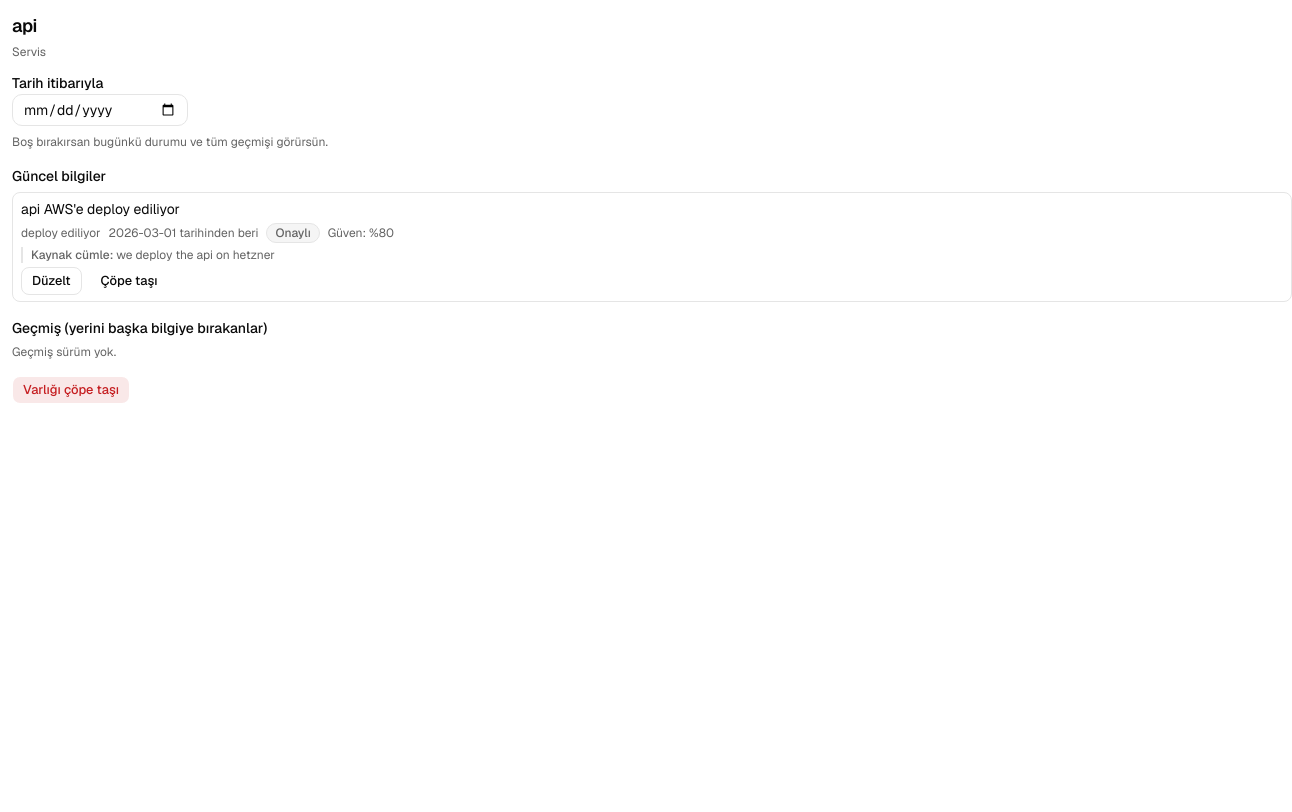
Test: EntityTimeline › an edit refused for order shows the reason
Click the button "Düzelt" at (51, 281), box [21,267,82,295]
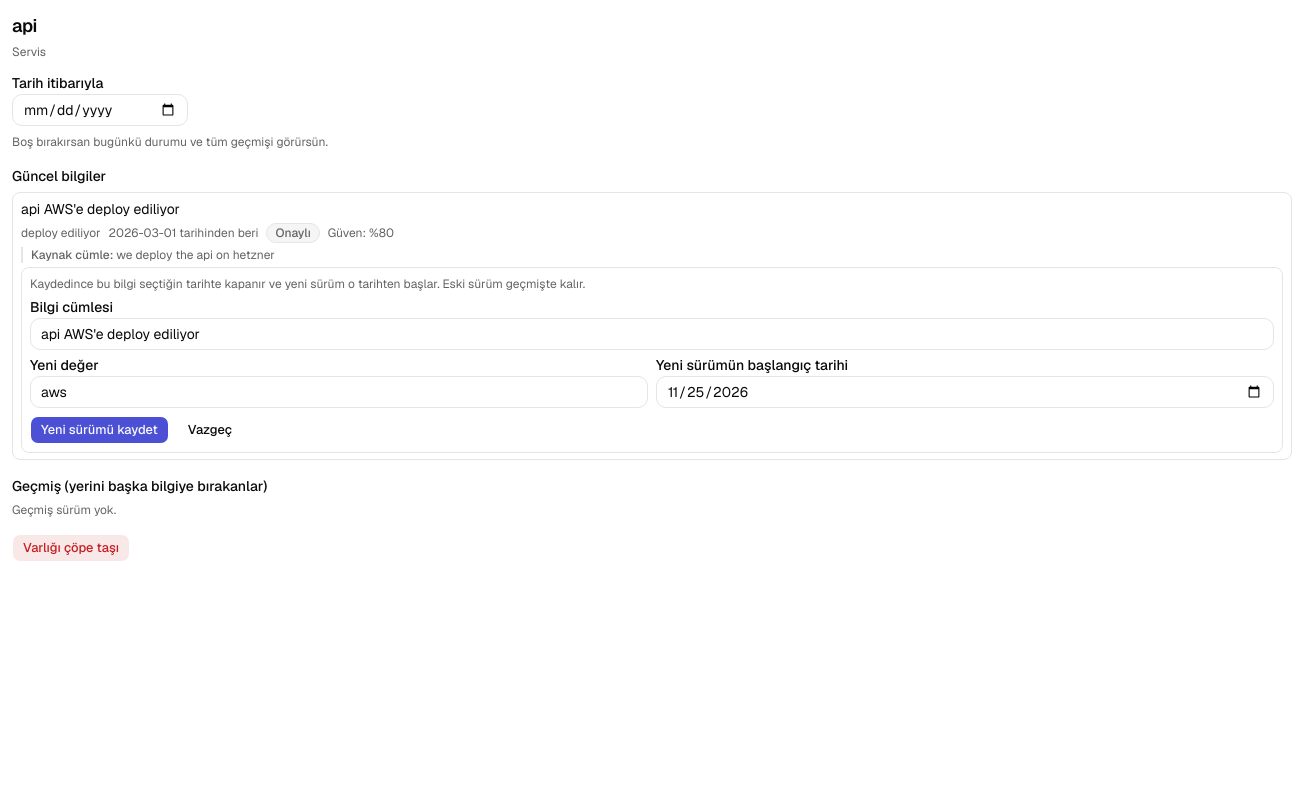
Click the button "Yeni sürümü kaydet" at (99, 430), box [30,416,169,444]
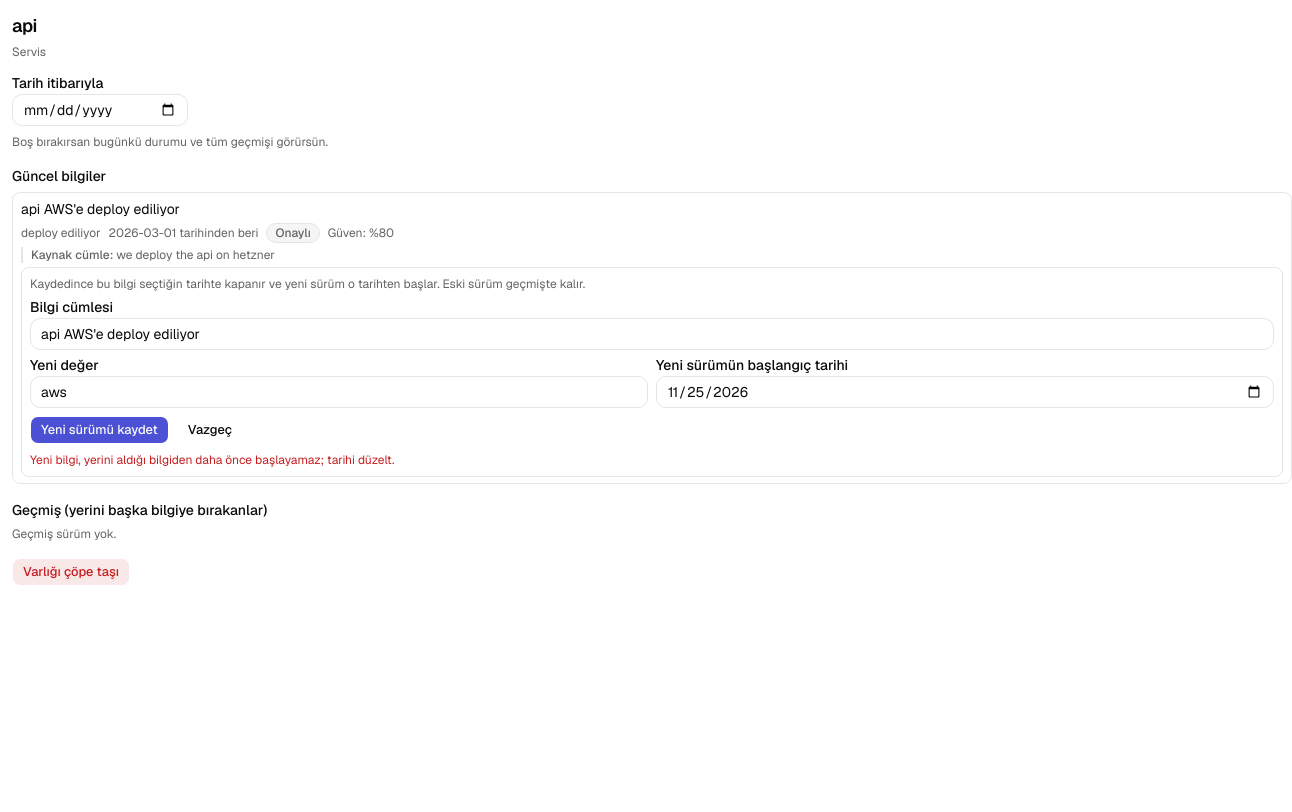
Expected: the message "Yeni bilgi, yerini aldığı bilgiden daha önce başlayamaz; tarihi düzelt." is shown, [30,452,394,468]
